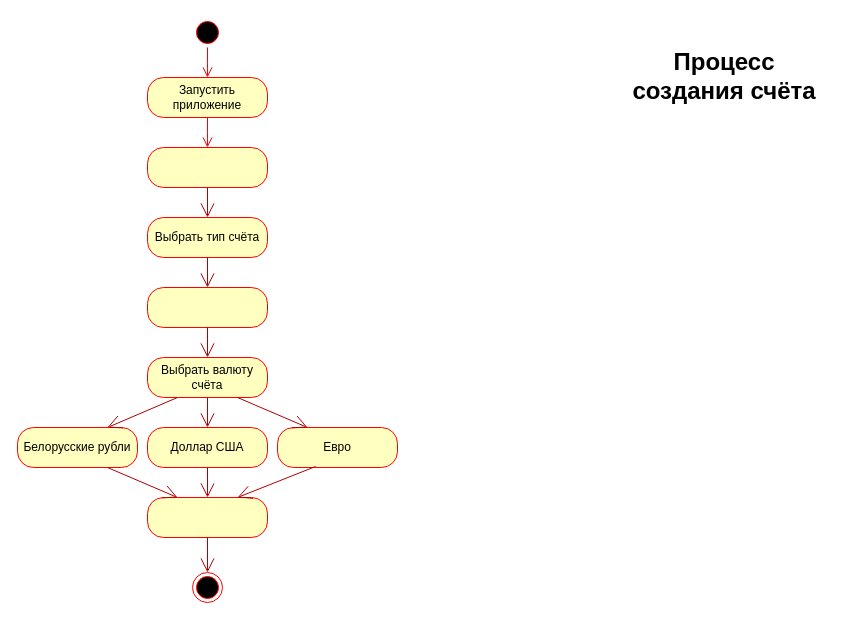
Image size: 852x620. Some labels were removed from this diagram. Each missing label, with the centre of its shape:
Пройти форму регистрации/авторизации: [207,167]
Сохранить изменения: [207,517]
Указать название счёта: [207,307]
